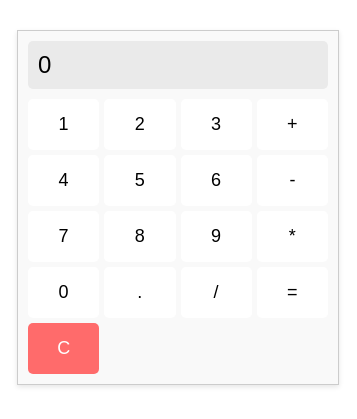
Scenario: クリアボタンが正しく処理されること
Step 1. Click the button "1" → (64, 124), box [28,98,99,150]
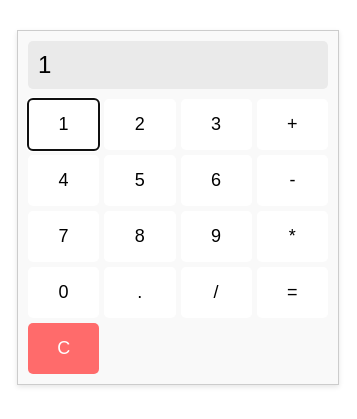
Step 2. Click the button "+" → (292, 124), box [257,98,328,150]
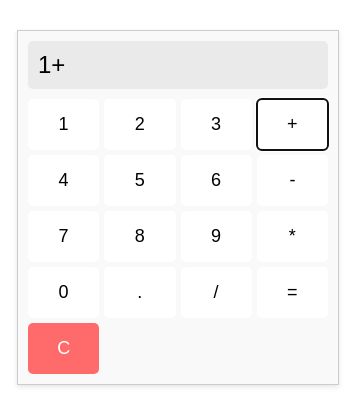
Step 3. Click the button "1" → (64, 124), box [28,98,99,150]
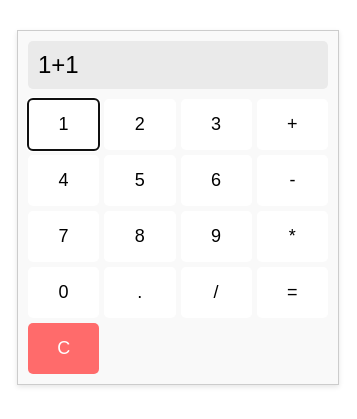
Step 4. Click the button named "clear" → (64, 348), box [28,322,99,374]
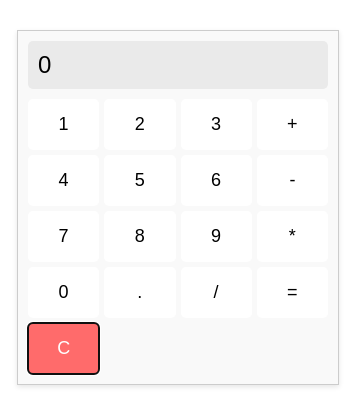
Step 5. Click the button "1" → (64, 124), box [28,98,99,150]
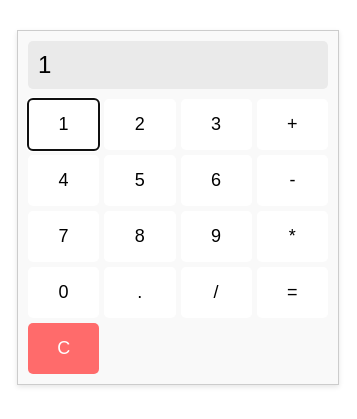
Step 6. Click the button "=" → (292, 292), box [257,266,328,318]
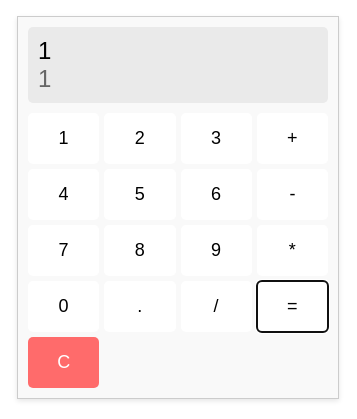
Now the text named "result" reads "1", box [38,64,51,92]
